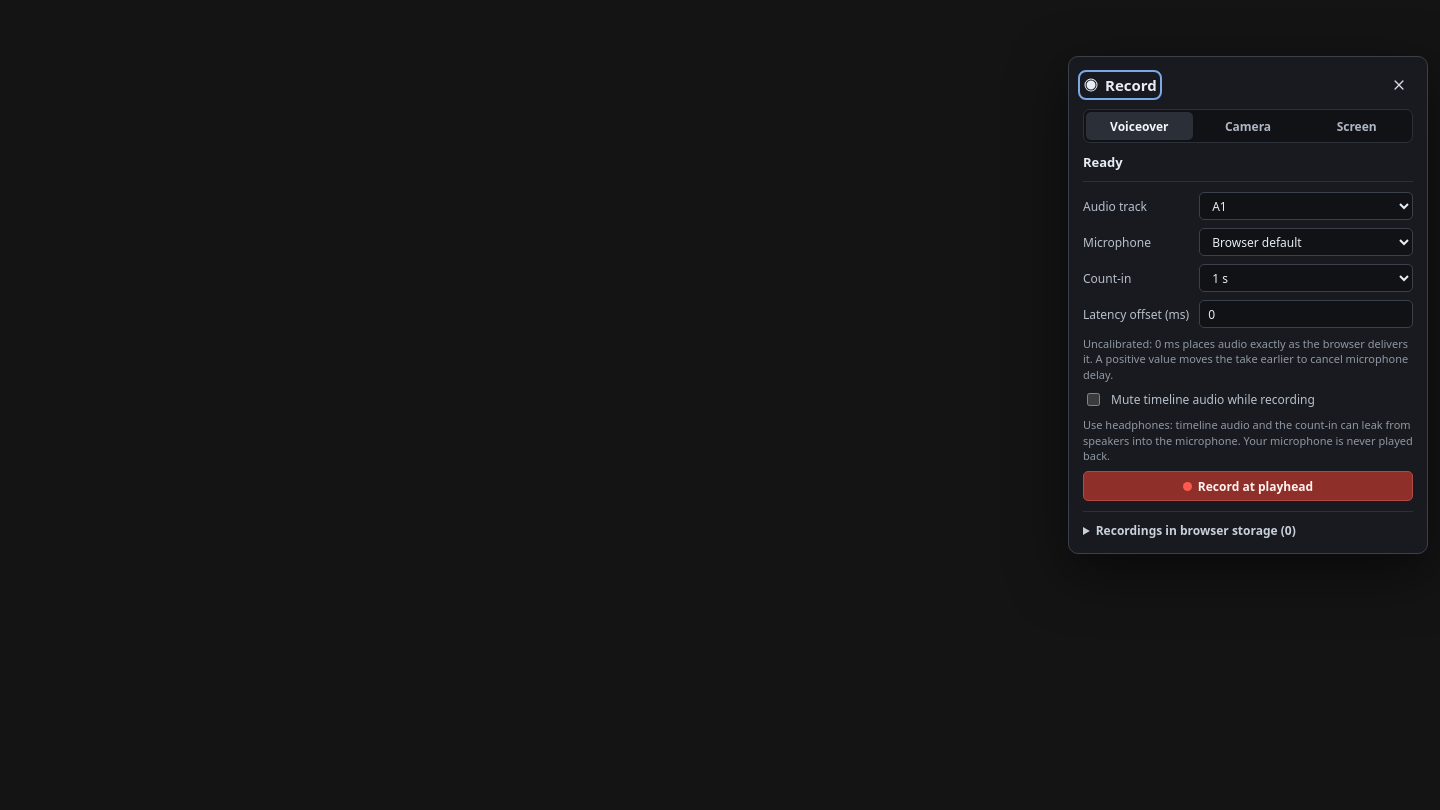
Test: RecordPanel voiceover tab › explains a rejected start and an invalid offset without starting
Click the button "Record at playhead": [1248, 486] box [1083,471,1413,501]
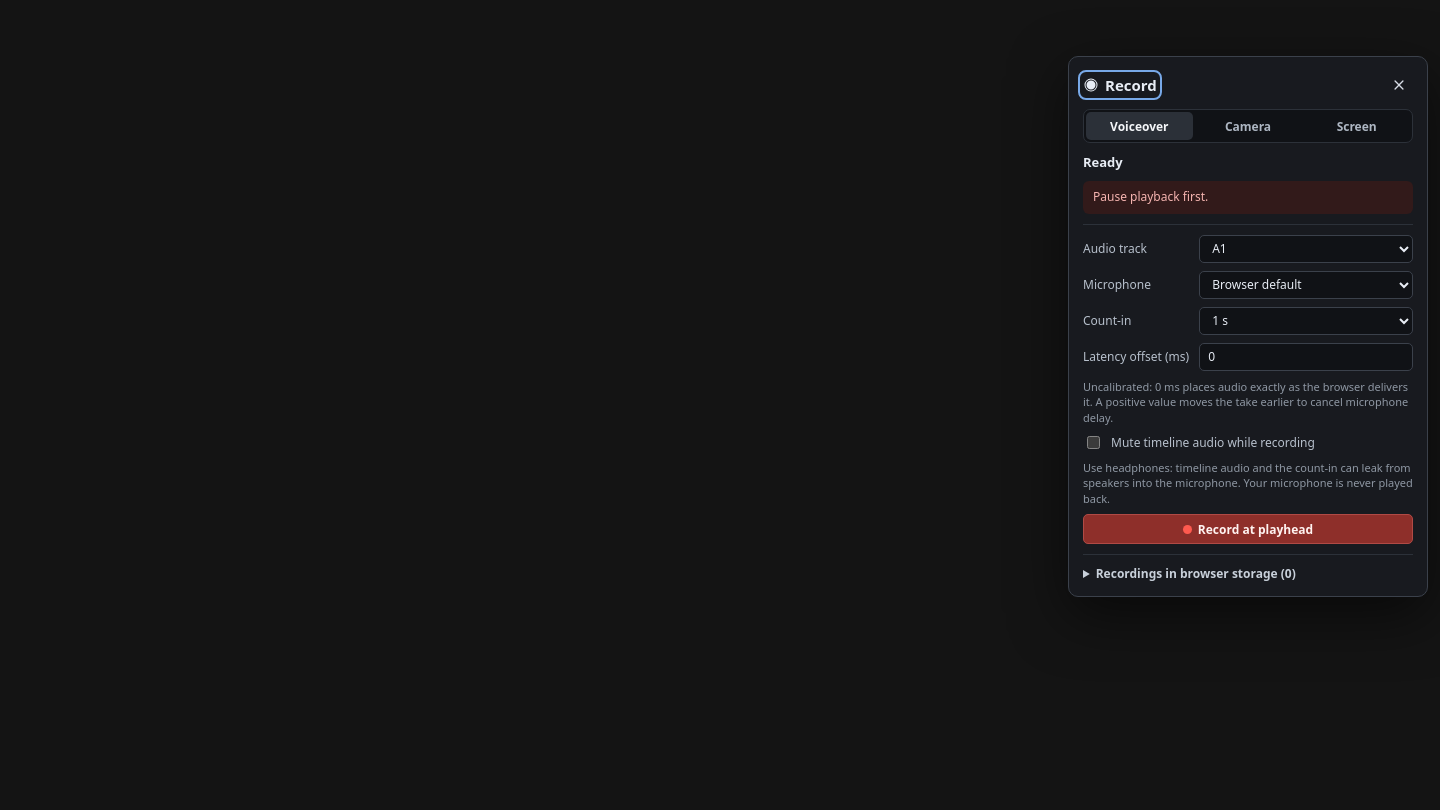
Now the message "Pause playback first." is shown, box [1083,181,1413,214]
Replace the text in the number field labelled "Latency offset (ms)" with "900": [1306, 357] box [1199,343,1413,371]
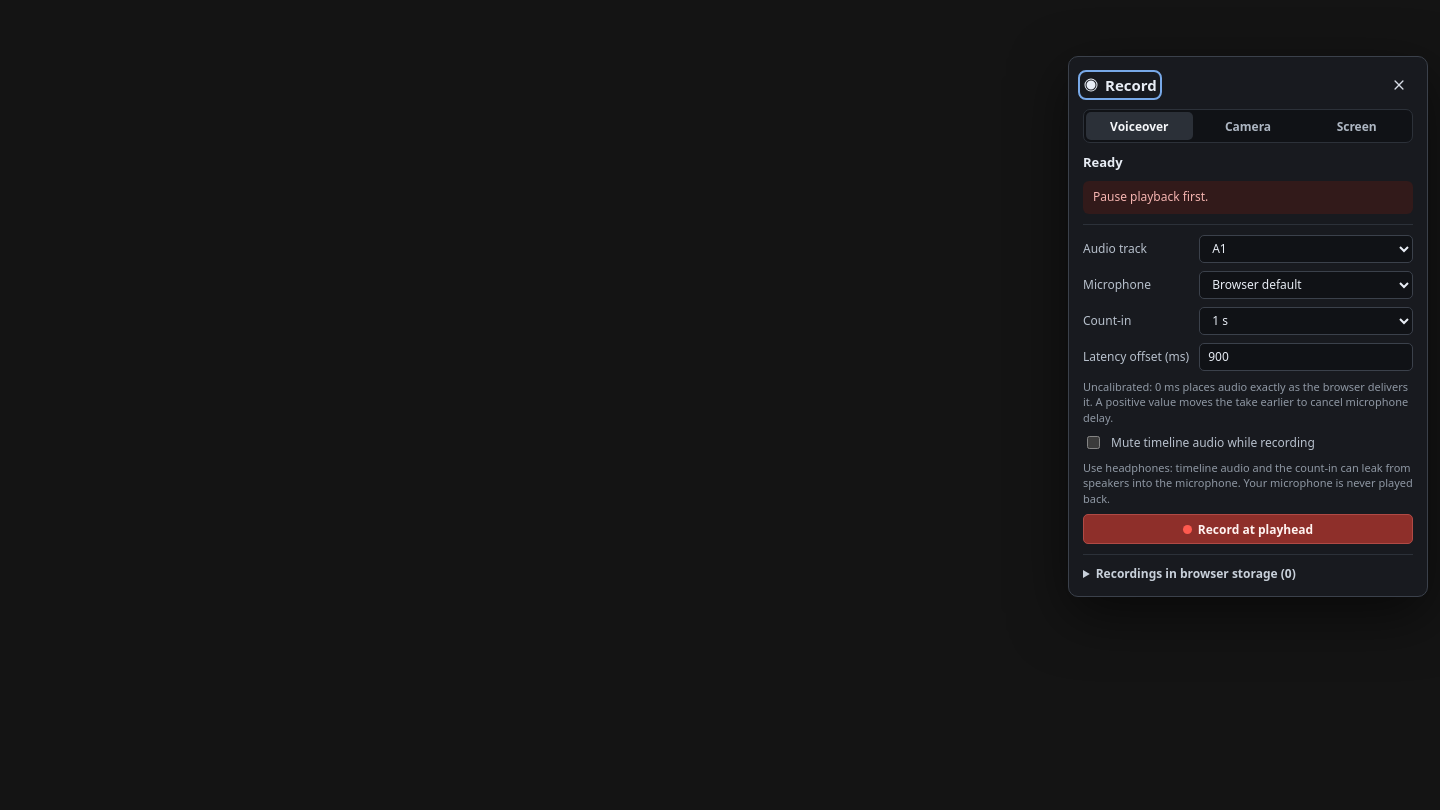
Click the button "Record at playhead": [1248, 529] box [1083,514,1413,544]
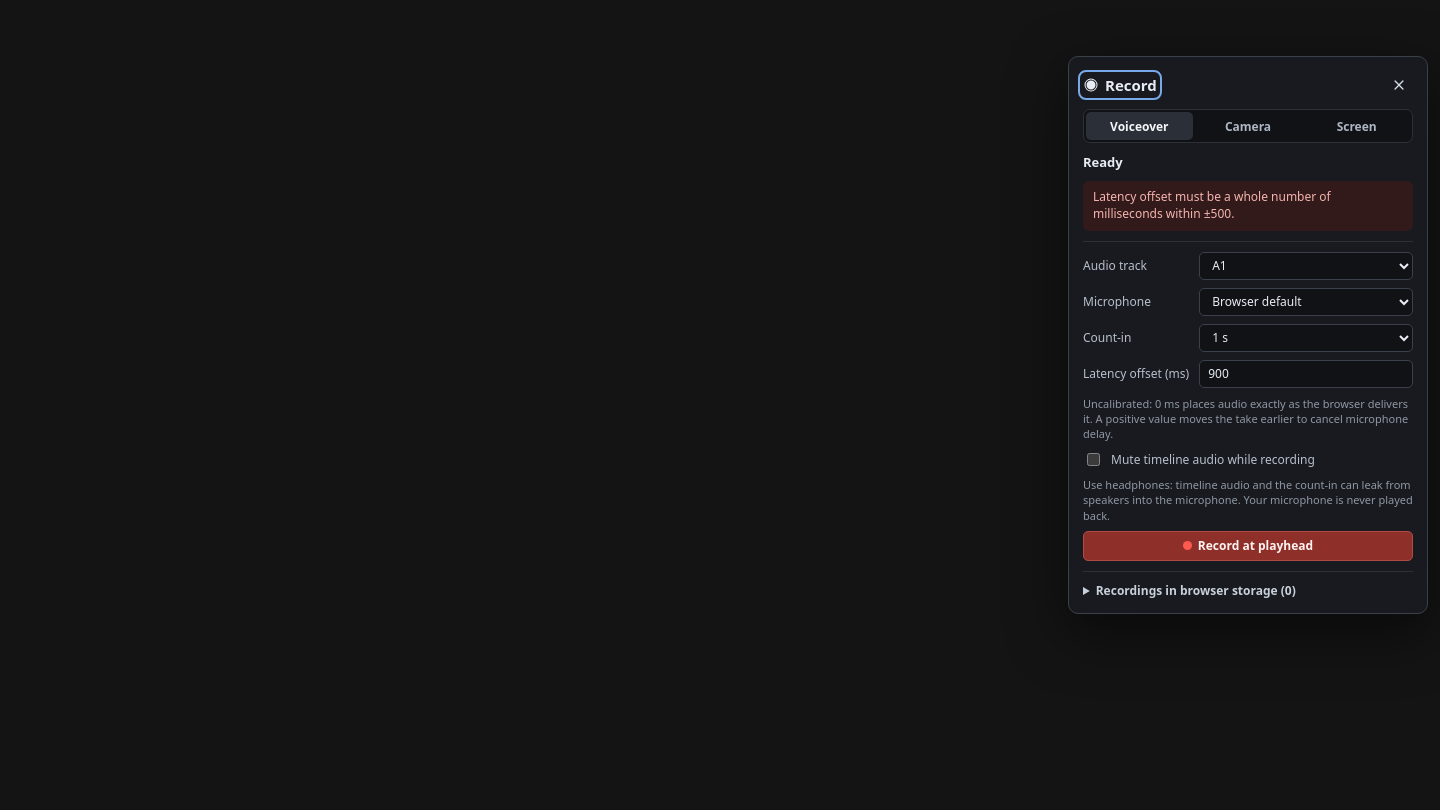
Now the message "Latency offset must be a whole number of milliseconds within ±500." is shown, box [1083,181,1413,231]
